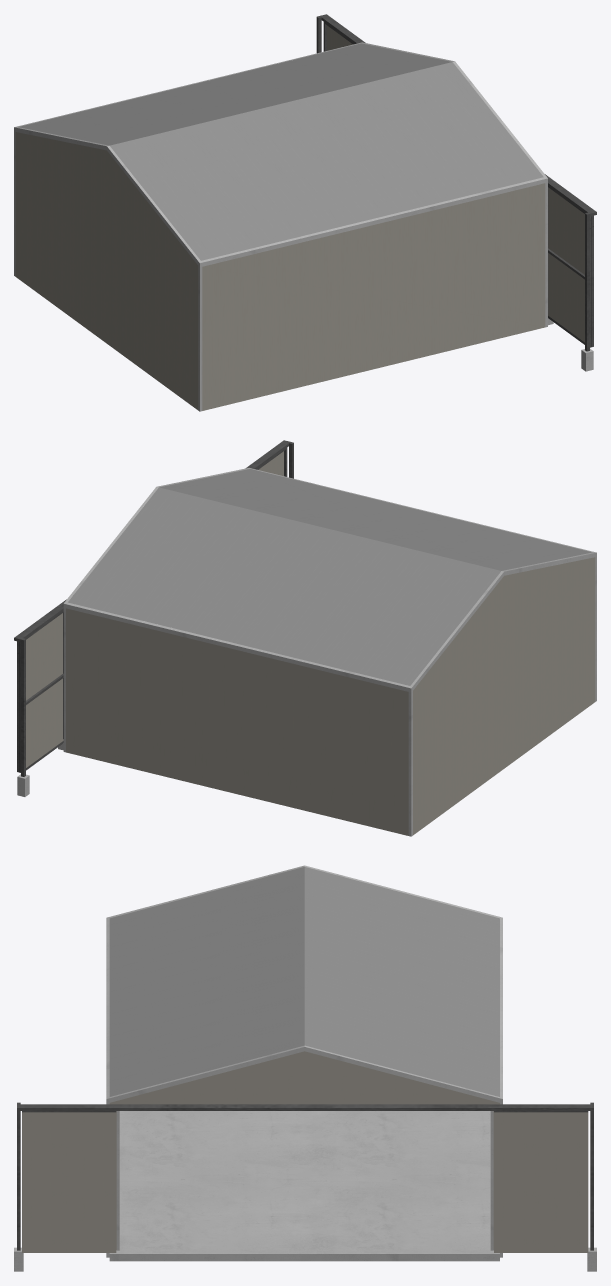
File: gen_open_hangar08_slide_door-12x13x5-cbj_LOD00.gltf
3 renders of one model, top to bottom at view 1: azimuth 30°, elevation 25°; view 2: azimuth 150°, elevation 25°; view 3: azimuth 270°, elevation 25°, orthographic. The views are drawn at different scales.
Parts seen in each view (by area): view 1: Cube.005; view 2: Cube.005; view 3: Cube.005.
Boxes of the visible parts, x1,y1,x2,y2 form: Cube.005: [14, 14, 596, 411]; Cube.005: [14, 440, 596, 836]; Cube.005: [14, 865, 596, 1271].
Size of the model in its own units: 13.47 by 7.58 by 17.93.
